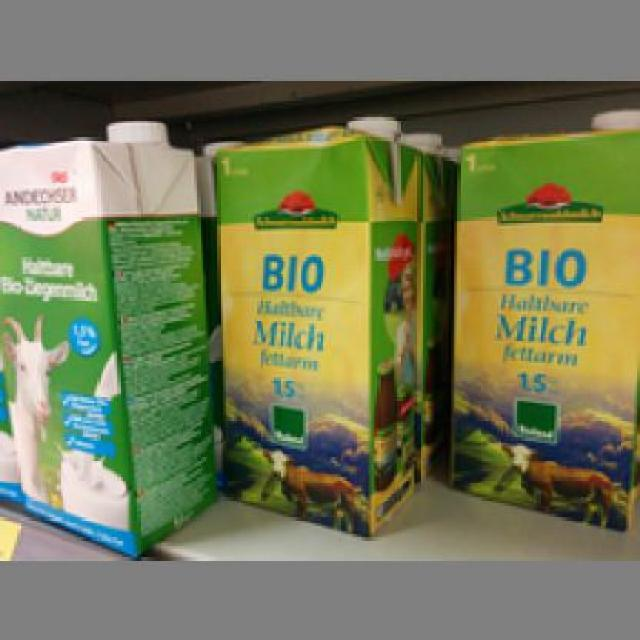Milk: (0, 117, 220, 557), (214, 109, 426, 540), (448, 106, 638, 532)
